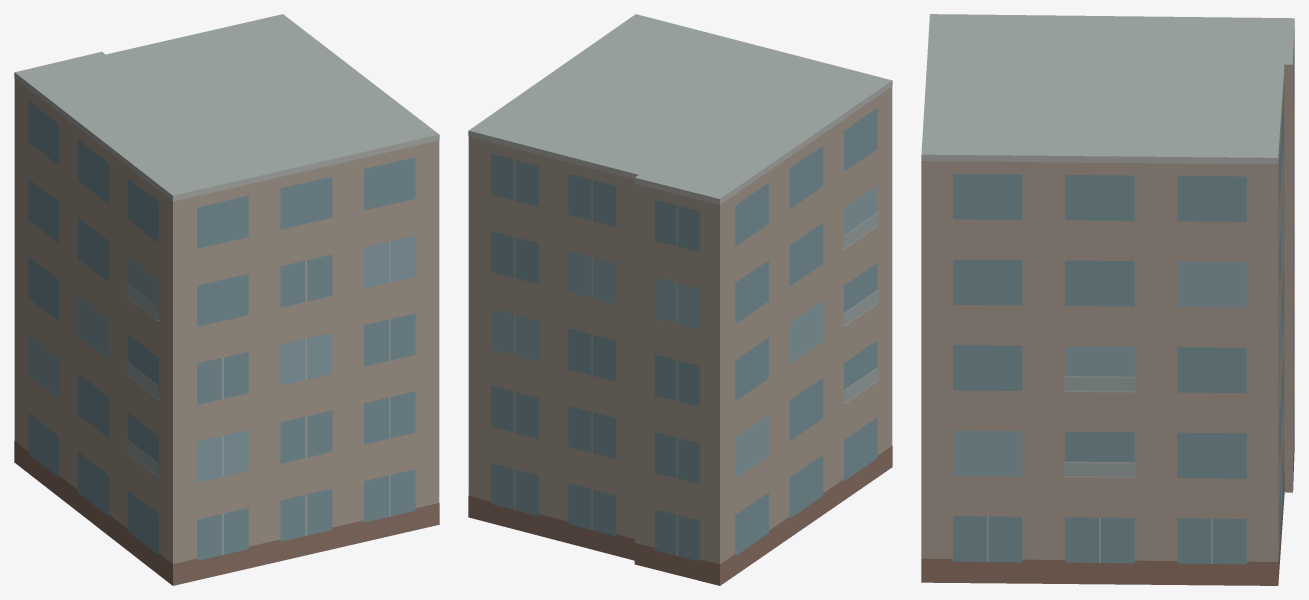
The model's file is survey-upis-32665487.glb.
The picture shows the model from 3 angles, left to right: view 1: azimuth 30°, elevation 25°; view 2: azimuth 150°, elevation 25°; view 3: azimuth 270°, elevation 25°; orthographic projection. The views are drawn at different scales.
Parts seen in each view (by area): view 1: survey-upis-32665487.tmp; view 2: survey-upis-32665487.tmp; view 3: survey-upis-32665487.tmp.
Boxes of the visible parts, box(x1,y1,x2,y2) form: survey-upis-32665487.tmp: box(14, 14, 439, 585); survey-upis-32665487.tmp: box(468, 14, 892, 585); survey-upis-32665487.tmp: box(921, 14, 1294, 585).
Size of the model in its own units: 11.7 by 16.2 by 12.81.
